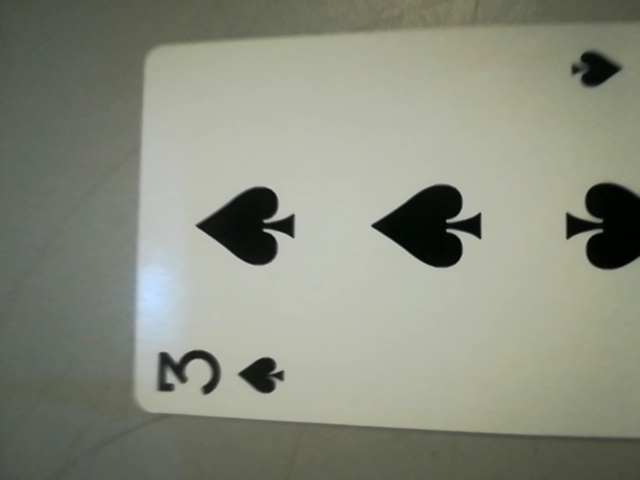ht 3: (132, 332, 302, 415)
